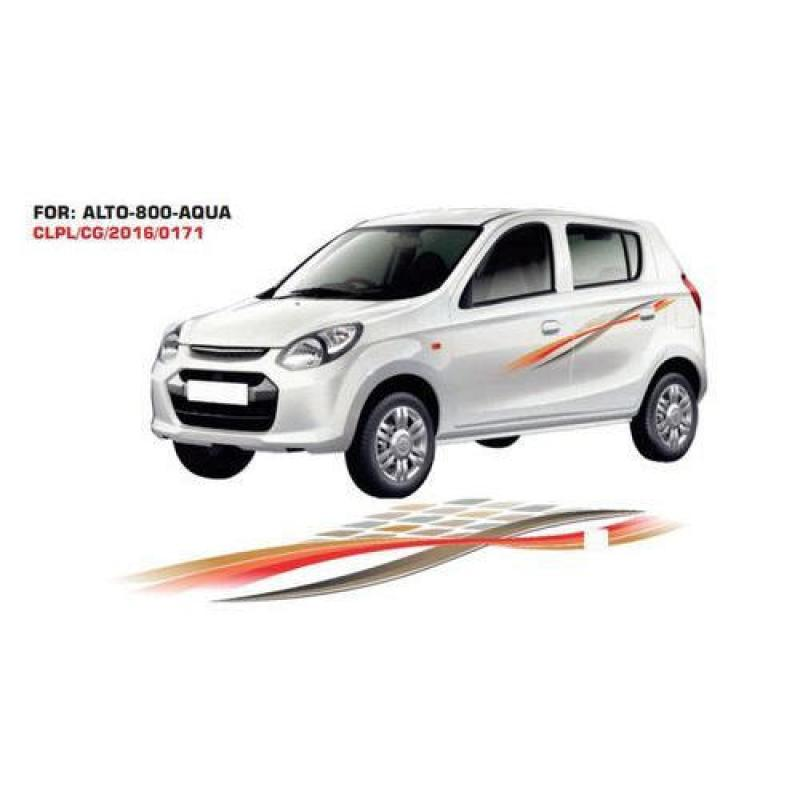car: (130, 209, 695, 470)
